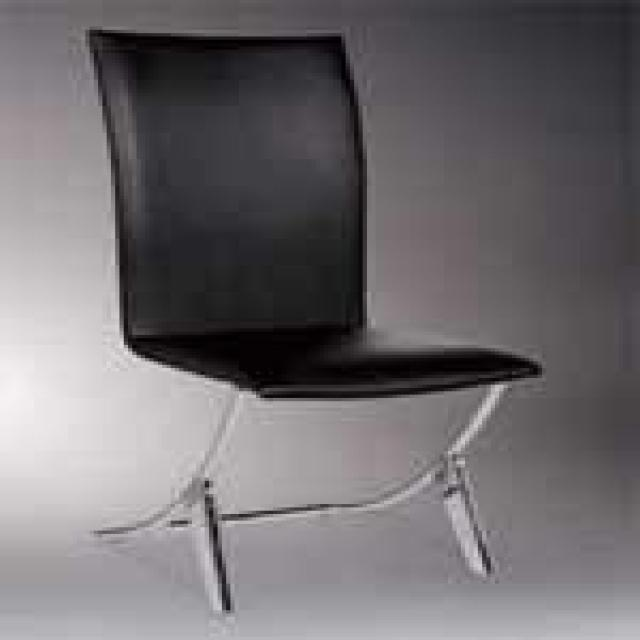chair: (84, 24, 541, 612)
